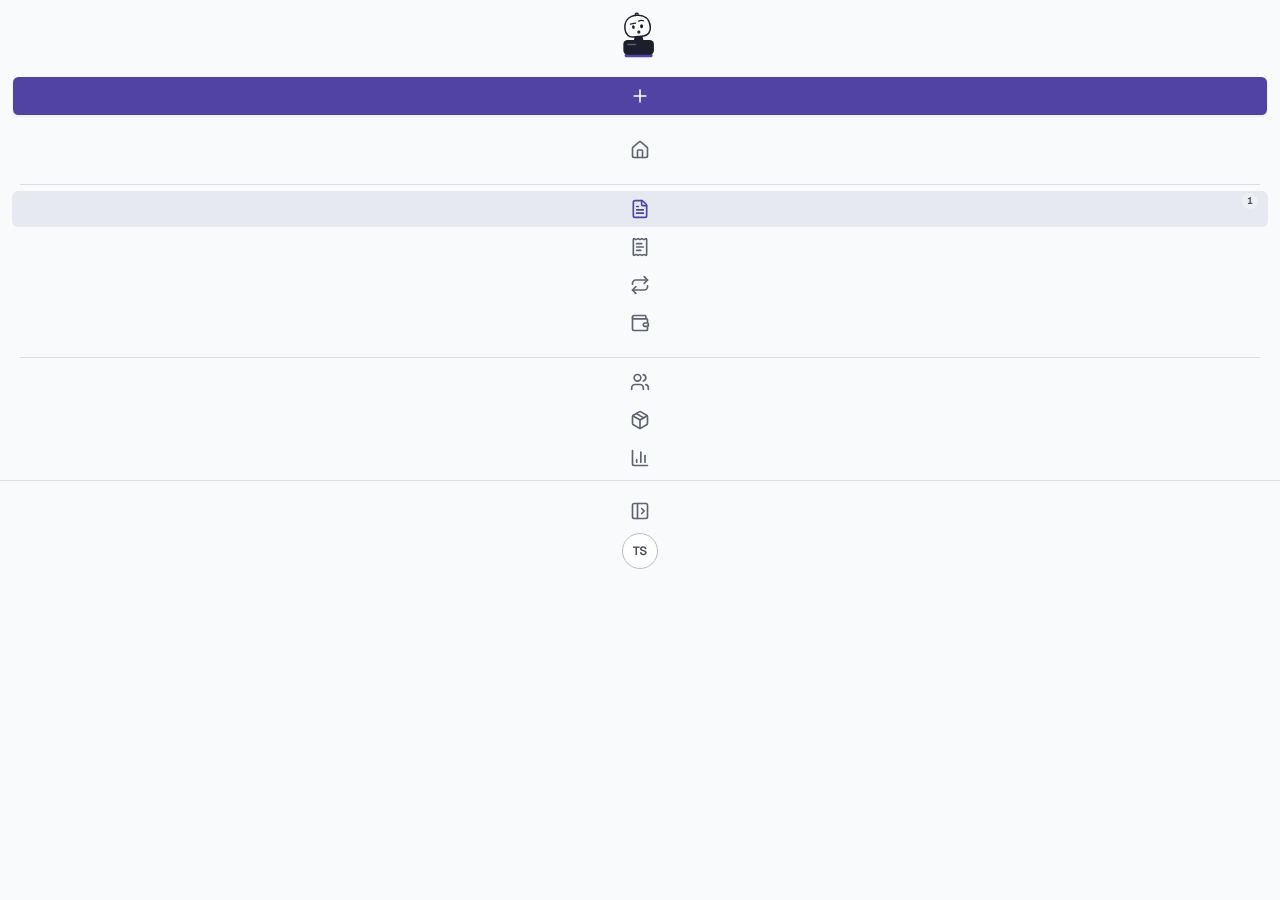
Test: collapsed sidebar menus › keeps the account button on the page when its popup opens, so the popup stays anchored to it
Press the mouse on the button with aria-label "account menu": (640, 551) [12,533,1268,569]
Click the button with aria-label "account menu": (640, 551) [12,533,1268,569]
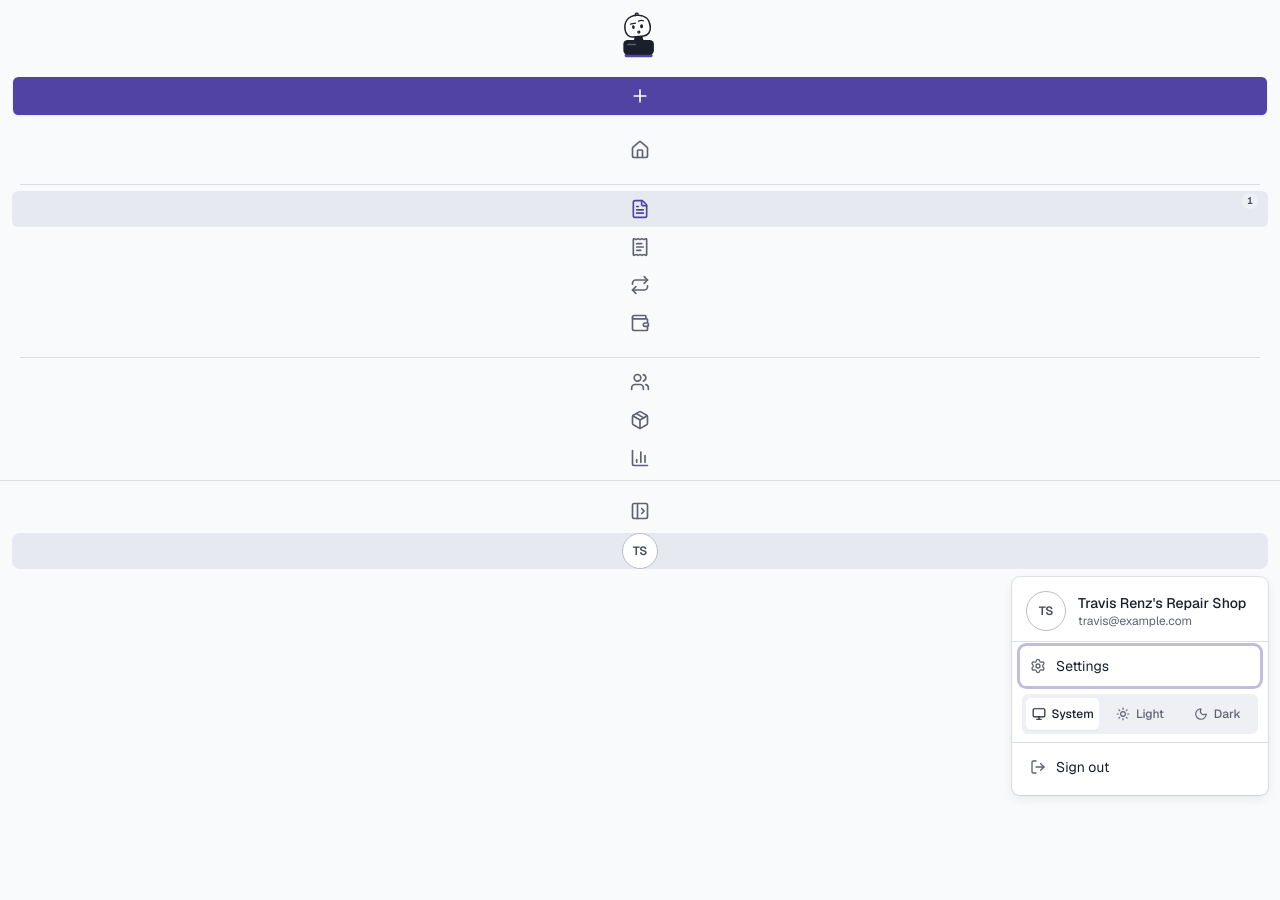
Result: the link "Settings" is shown at [1020,646,1260,686]
